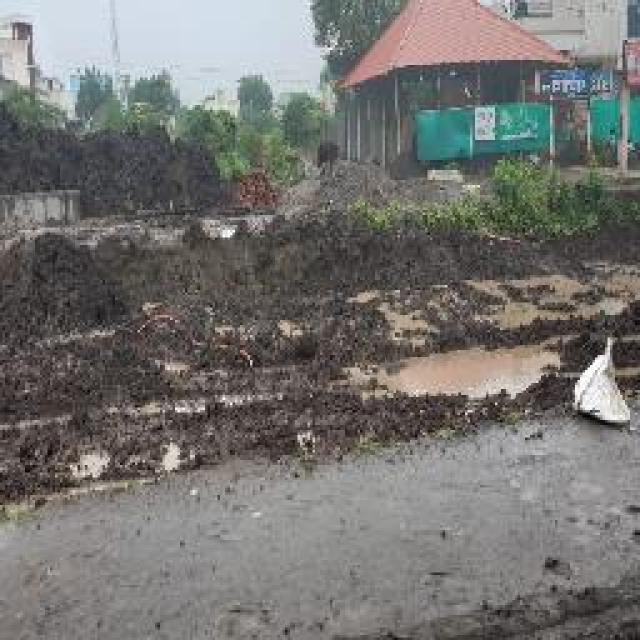puddle: (387, 347, 560, 404)
